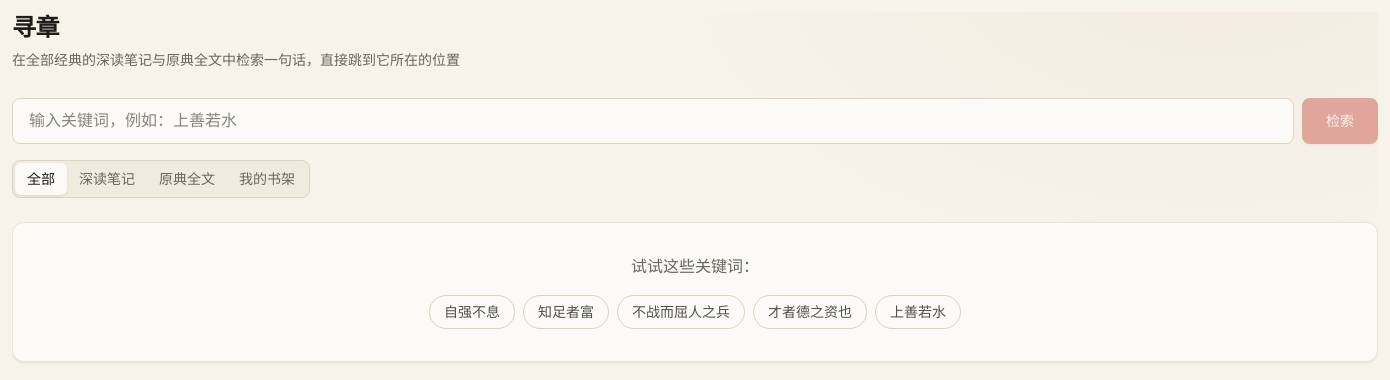
it: 寻章页面 › 检索后展示命中结果、出处与相关度
Type "才者德之资" into the field named "检索关键词" at (653, 121), box [12,98,1294,144]
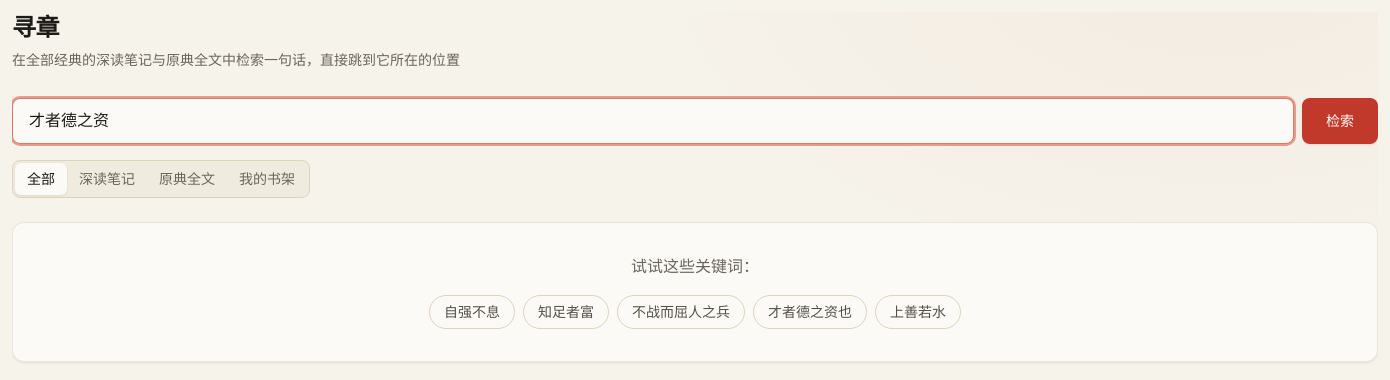
Click the button "检索" at (1340, 121), box [1302,98,1378,144]
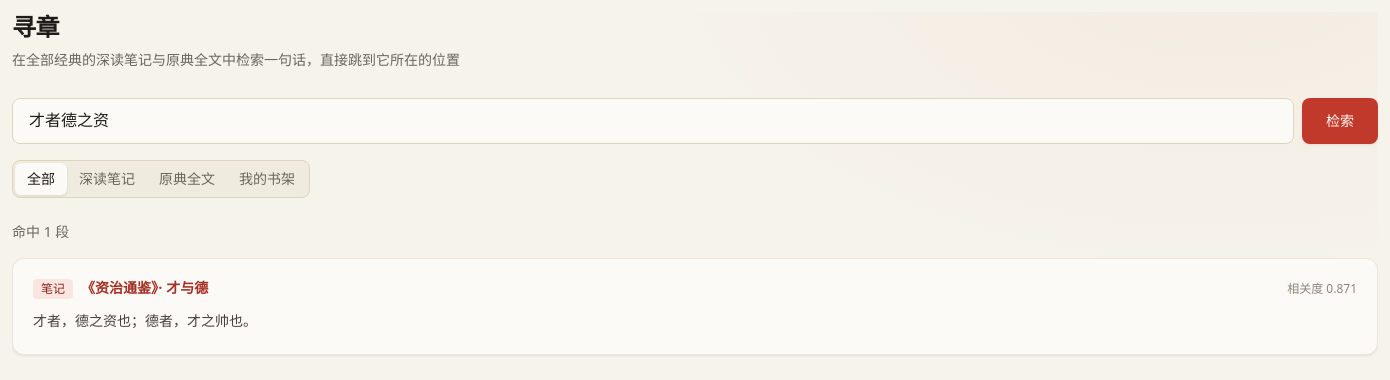
Result: the text "《资治通鉴》· 才与德" is shown at [81,281,208,296]
Result: the text "命中 1 段" is shown at [12,222,69,241]
Result: the text "相关度 0.871" is shown at [1287,280,1357,297]
